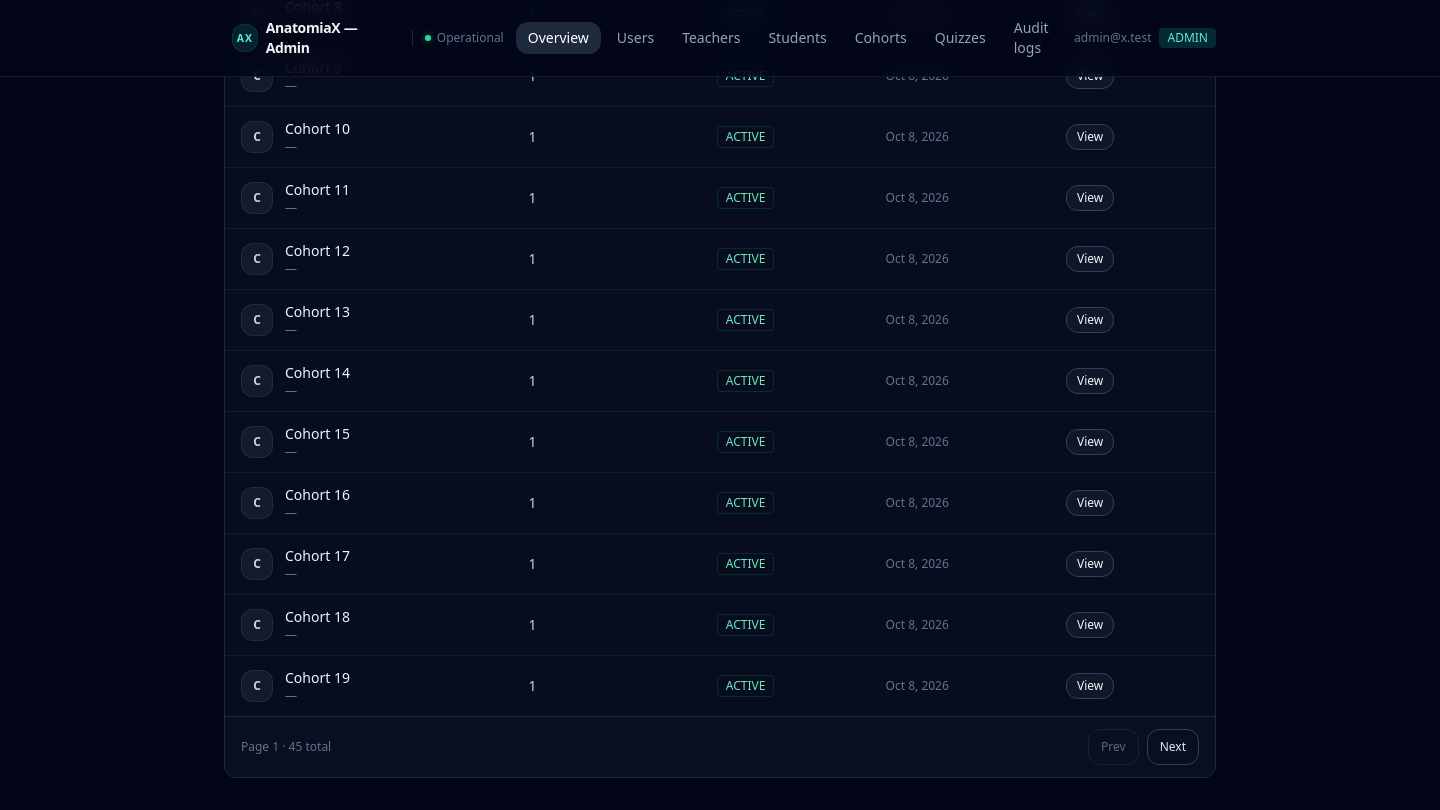
admin cohorts pagination › pages forward and back, disabling prev on page one
(page scrolled)
Expected: the button with test id "admin-cohorts-prev" is disabled, [1088,729,1139,765]
Step 1. Click the button with test id "admin-cohorts-next" → (1173, 747), box [1147,729,1199,765]
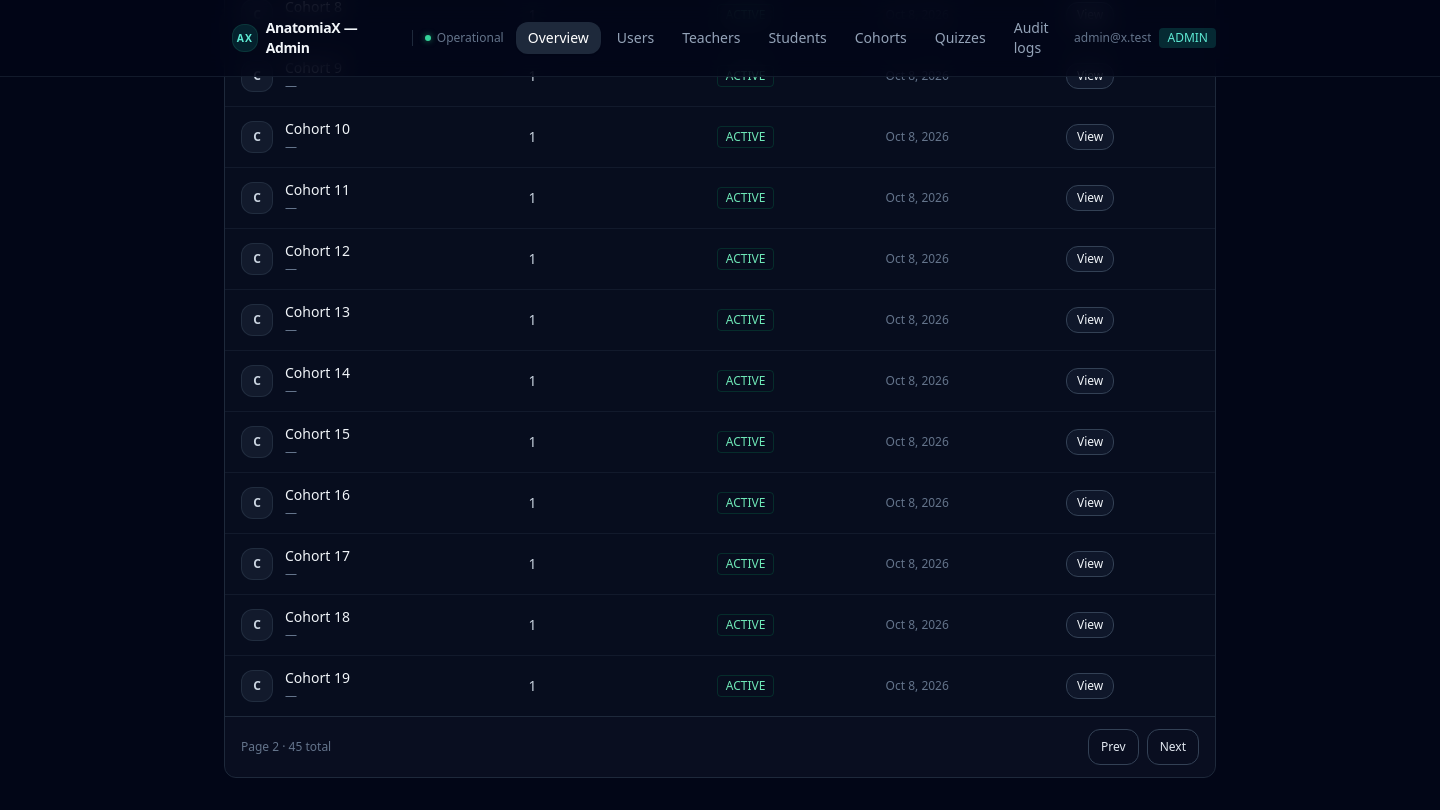
Expected: the button with test id "admin-cohorts-prev" is enabled
Step 2. Click the button with test id "admin-cohorts-prev" → (1113, 747), box [1088,729,1139,765]
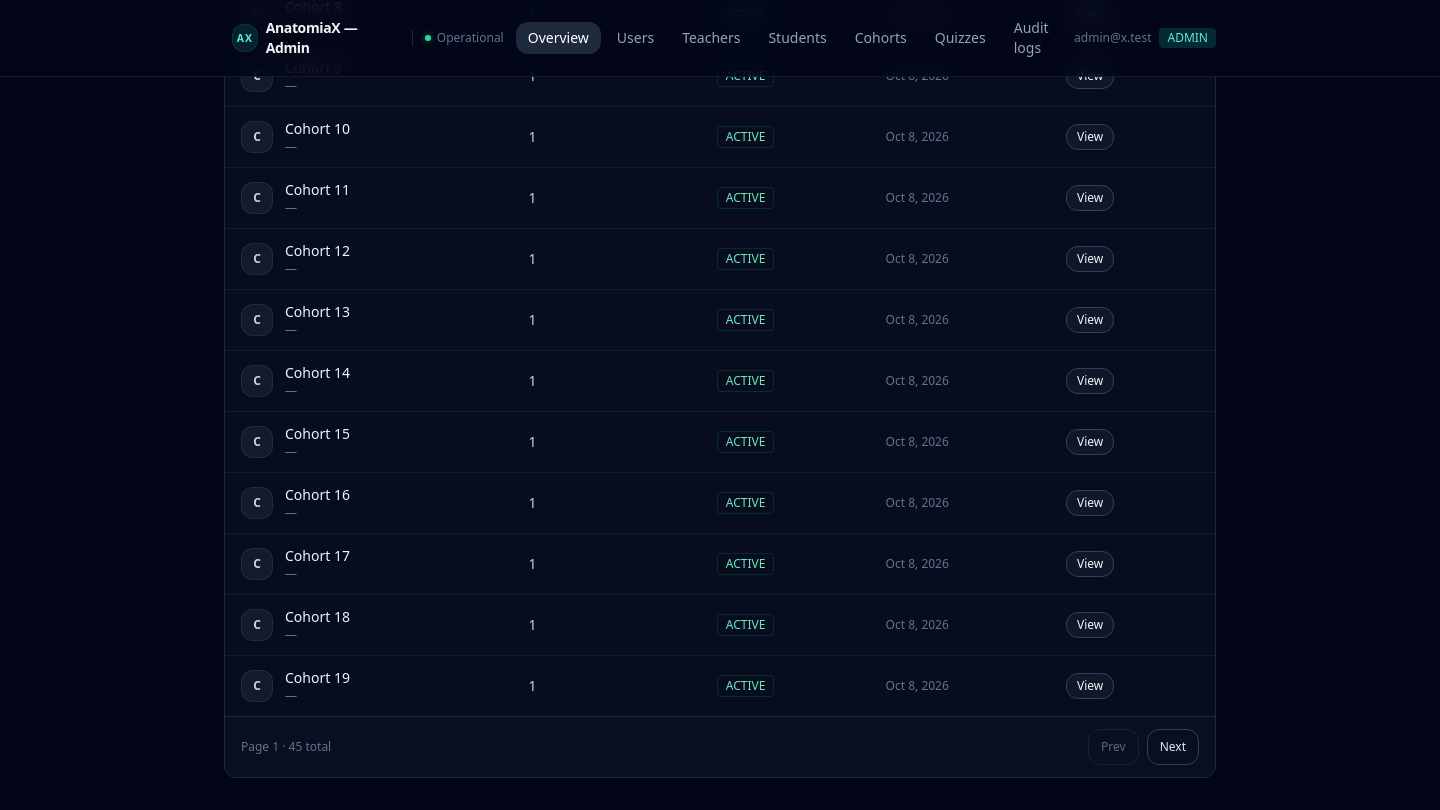
Expected: the button with test id "admin-cohorts-prev" is disabled, [1088,729,1139,765]
